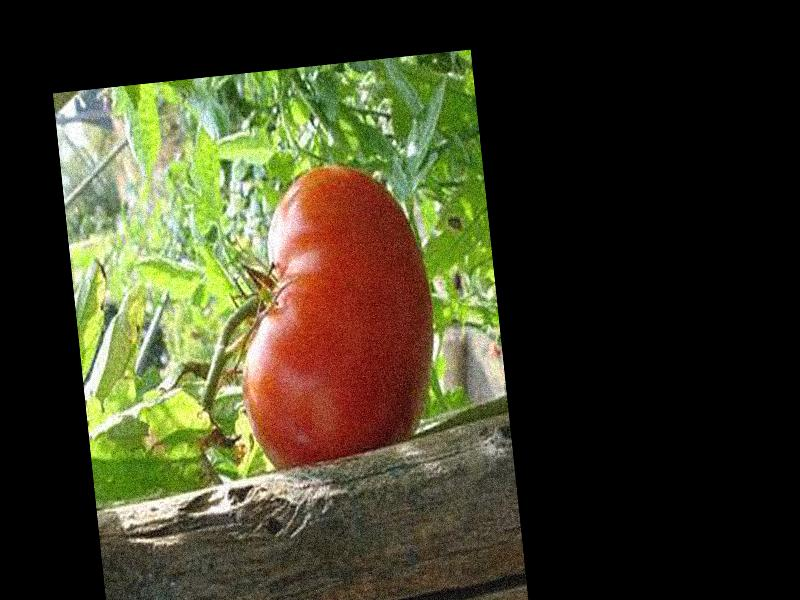Tomato: (220, 156, 445, 477)
